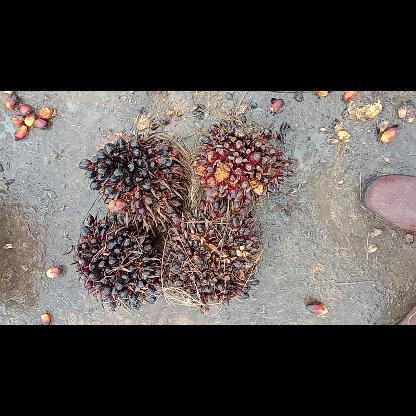TBS abnormal: (161, 198, 267, 306), (69, 210, 164, 314)
TBS masak: (76, 129, 192, 233), (190, 118, 300, 216)
